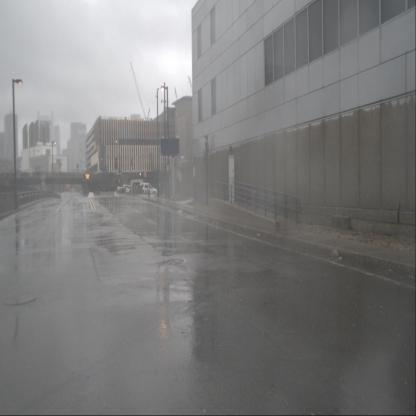vehicle-car: (135, 182, 158, 196), (125, 185, 137, 194), (88, 192, 94, 199)
vehicle-truck: (118, 184, 130, 194)
